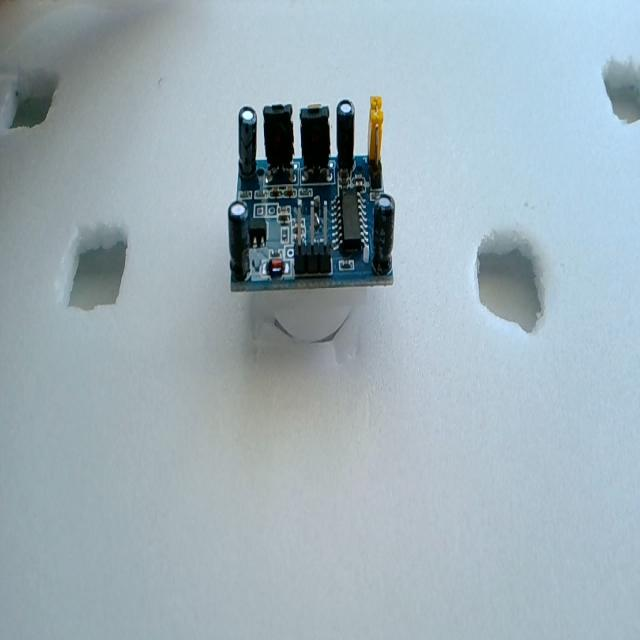Electrolytic capacitor: (373, 195, 395, 273), (228, 201, 250, 279), (336, 98, 356, 174), (238, 106, 257, 178)
IC: (331, 182, 372, 263)
pinheader: (290, 195, 335, 278)
